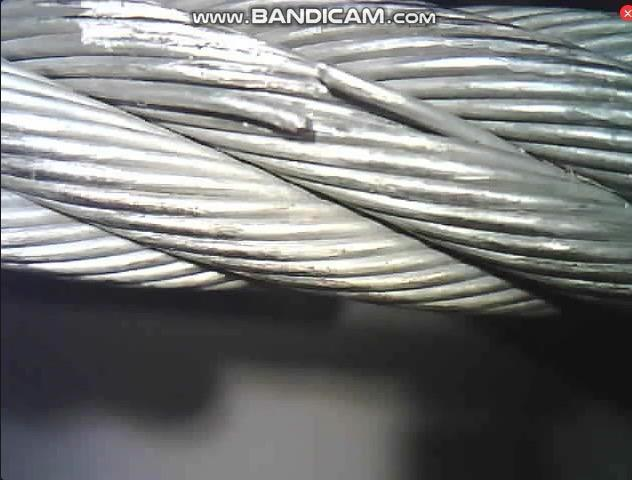break: (252, 61, 354, 132)
